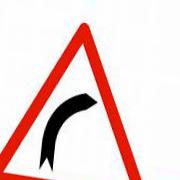right: (7, 23, 140, 180)
